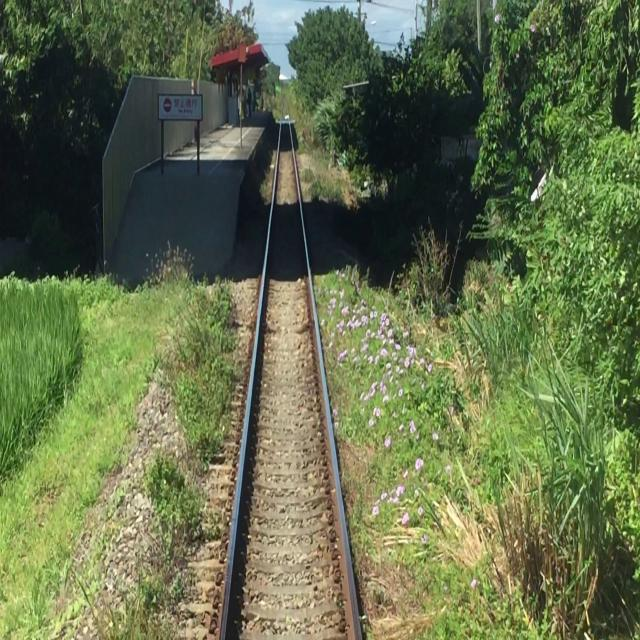rail: (172, 113, 385, 640)
